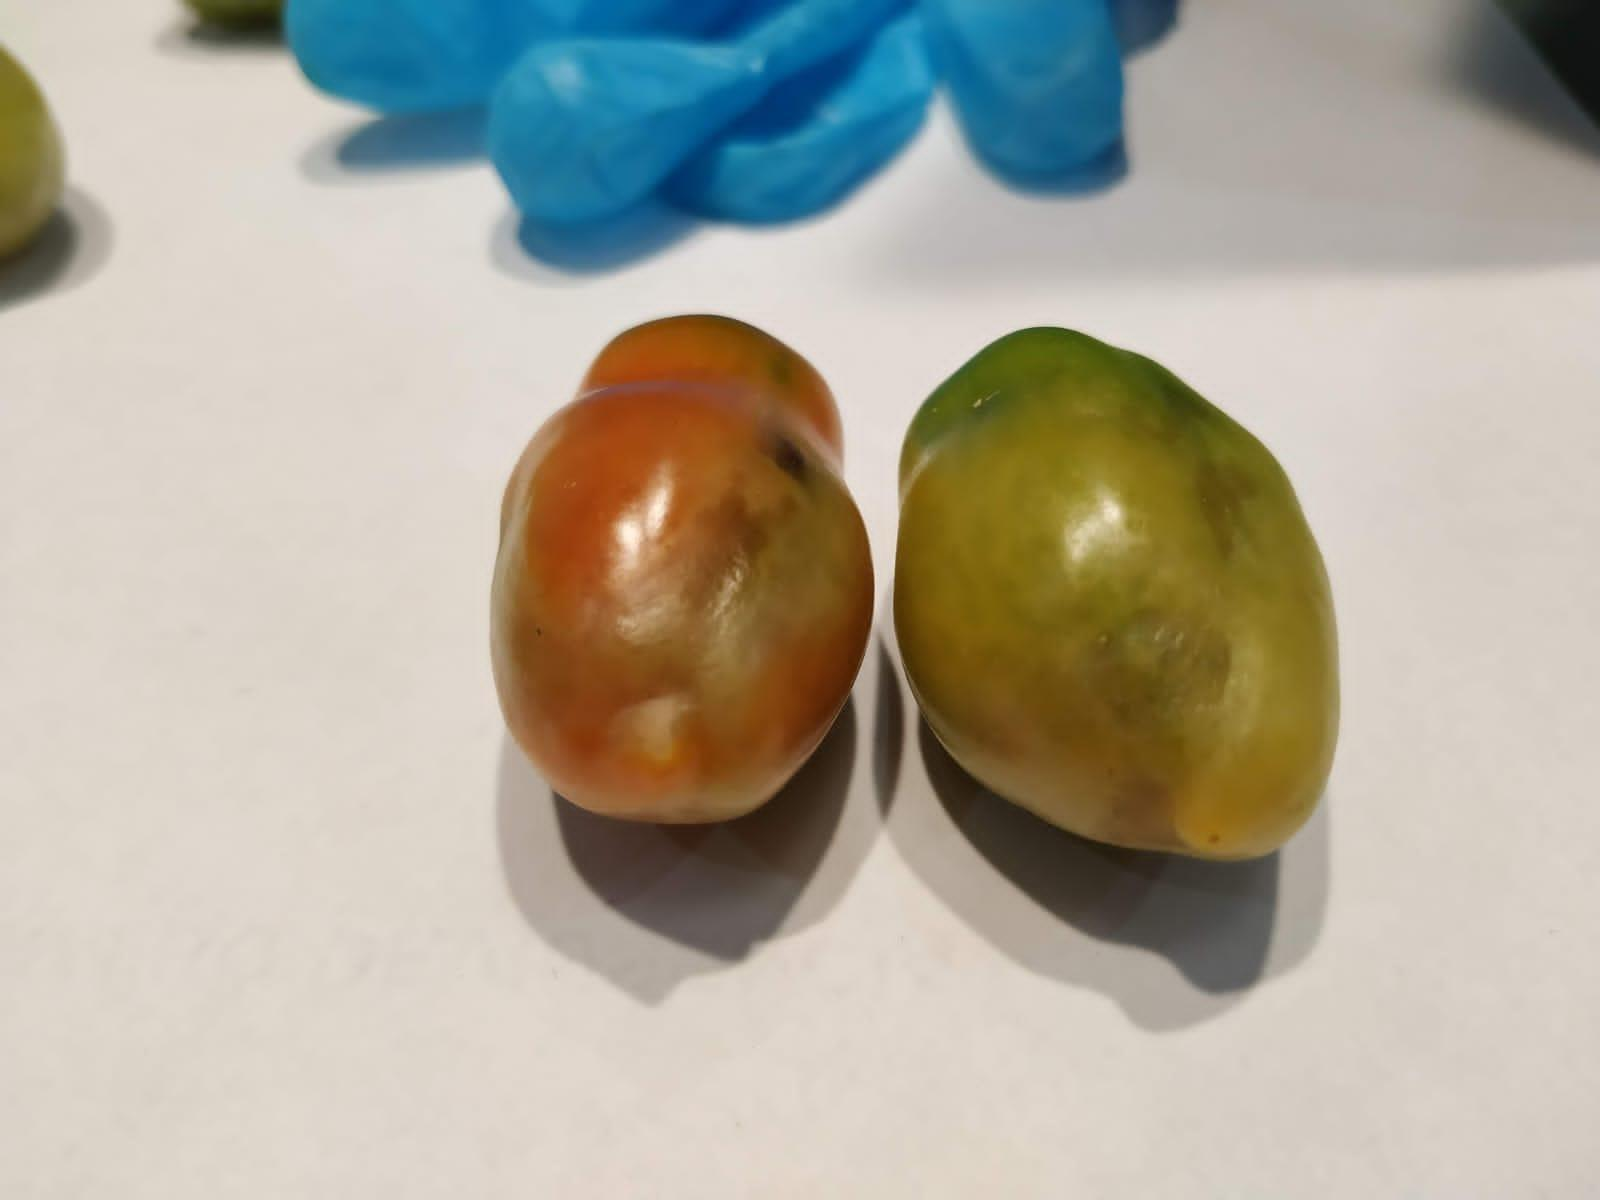Rugose tomato: (894, 325, 1340, 857), (490, 313, 873, 823)
